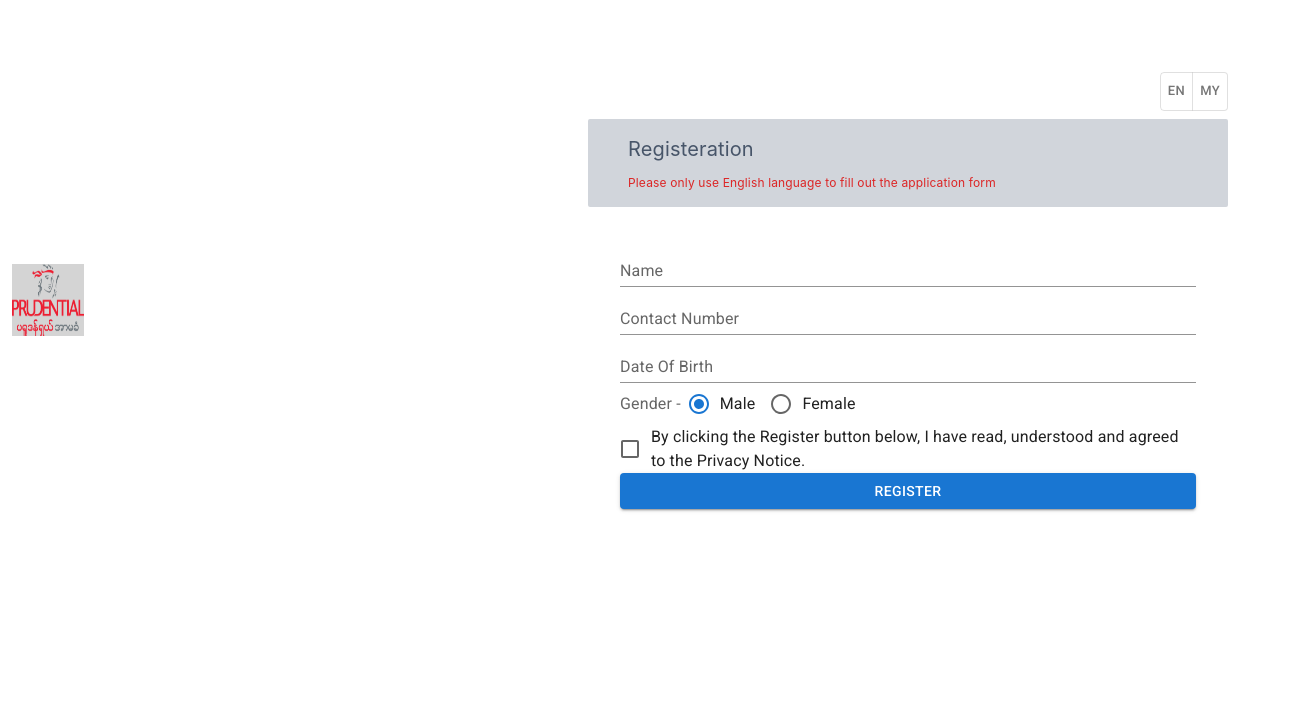
Test case: Register › contactNumber should be required on form submit
Click the button "Register" at (908, 491), box [620,473,1196,509]
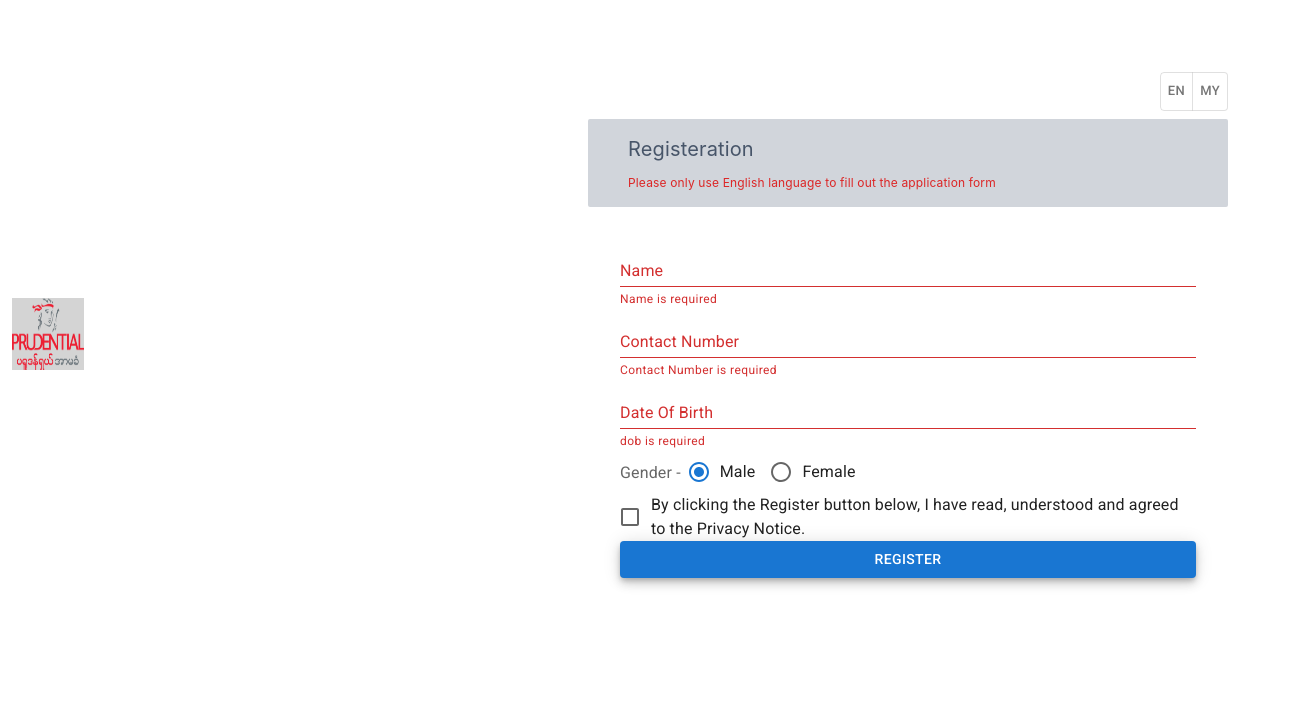
Expected: the text "Contact Number is required" is shown, [620,363,777,377]
